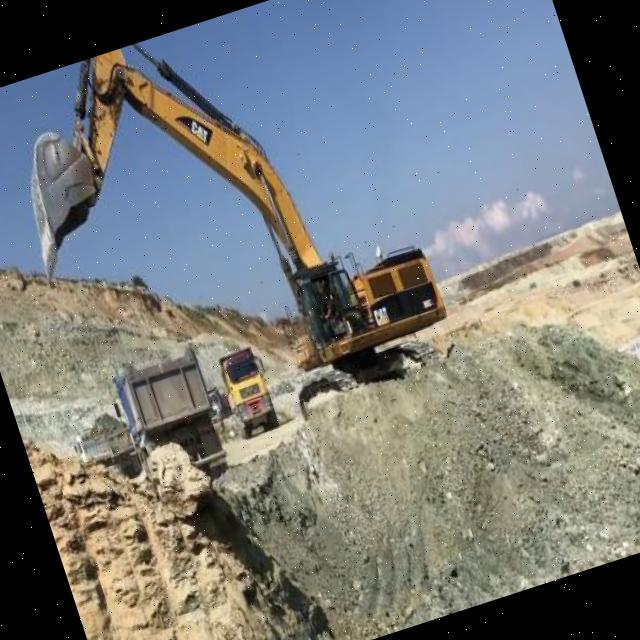Dump Truck: (109, 347, 234, 496), (212, 344, 282, 439), (70, 418, 142, 488)
Excavator: (0, 0, 464, 476)
